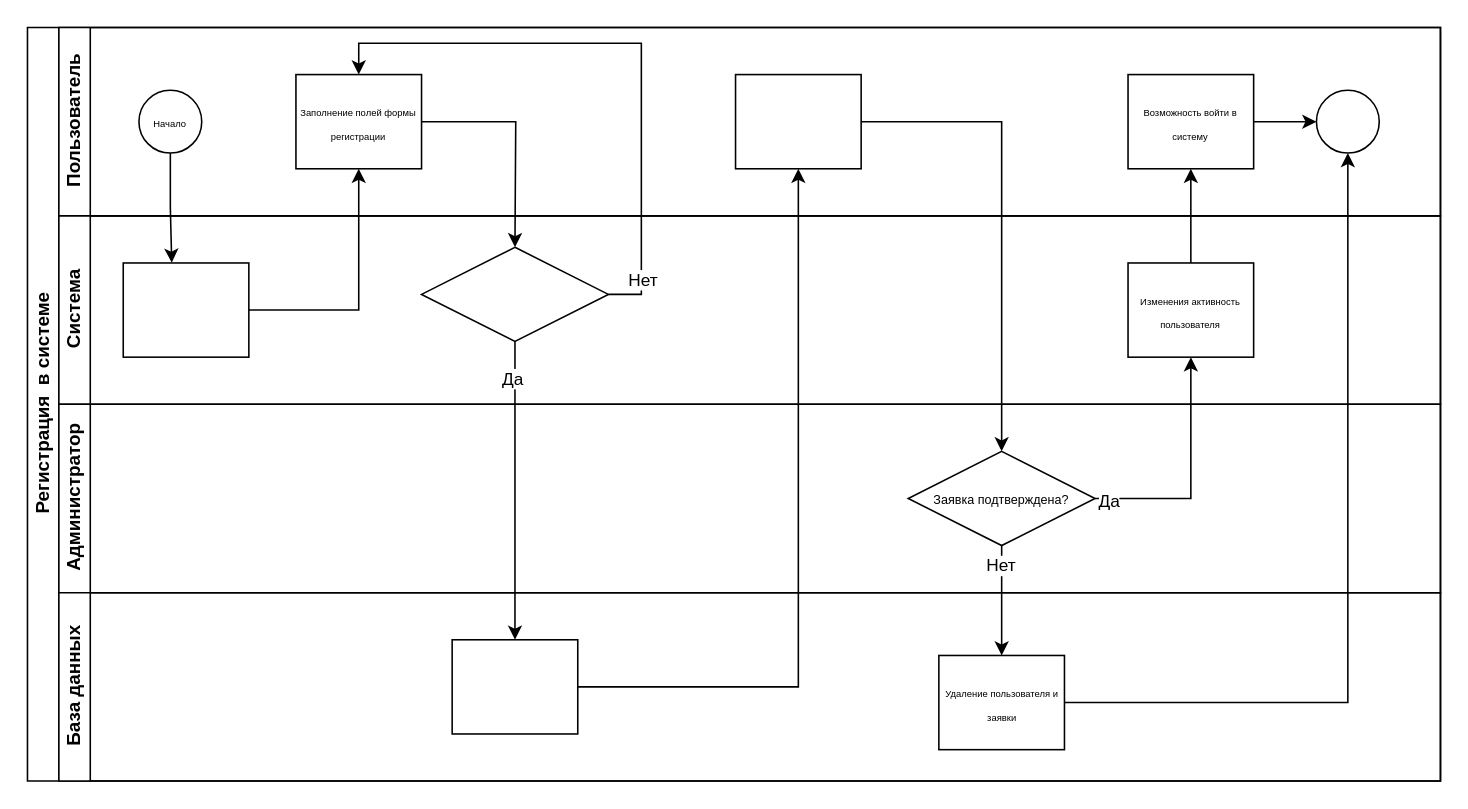
Image size: 1468x809. Some labels were removed from this diagram. The shapes that lost their labels are listed below. From the top down, each one's centre as x and y in pixels, then its label:
At [797,121]: "Ожидание подтверждения заявки".
At [1347,121]: "Конец".
At [185,309]: "Отображение формы регистрации".
At [514,293]: "Данные валидны?".
At [514,686]: "Сохранение заявки".
